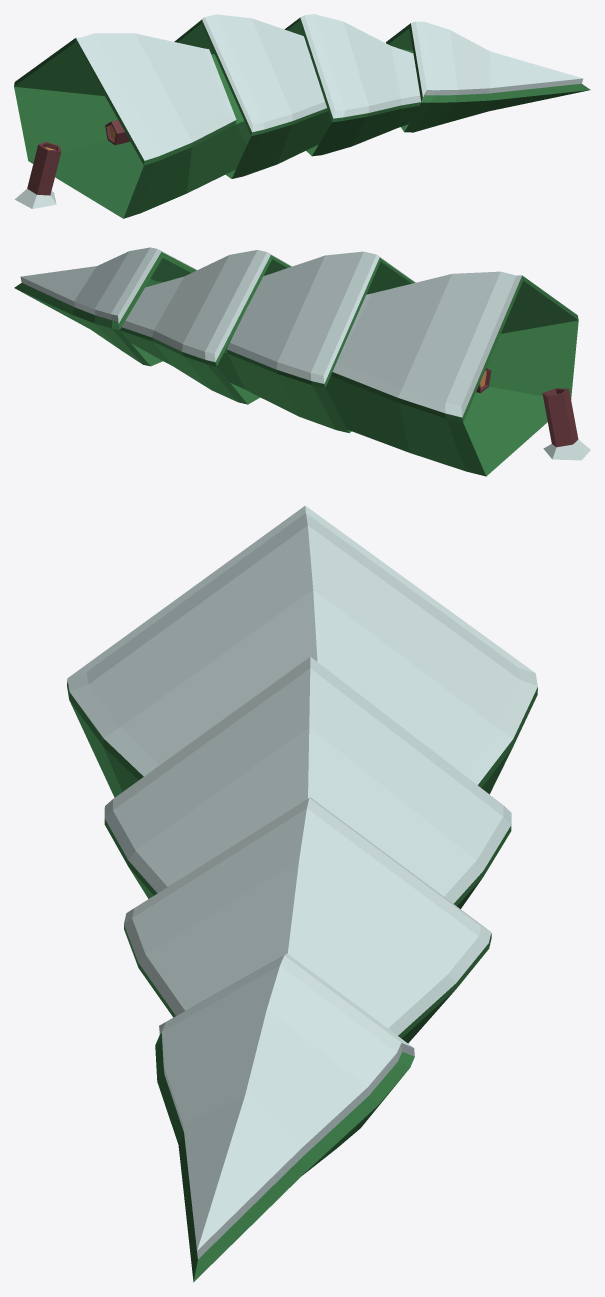
File: tree_3_fallen_snow.fbx
3 views of the same model, one above another, from view 1: azimuth 30°, elevation 25°; view 2: azimuth 150°, elevation 25°; view 3: azimuth 270°, elevation 25° (orthographic). The views are drawn at different scales.
Visible parts, largest first — view 1: Cone, Cone.001, Cone.002, Cone.003, Cylinder.001, Cylinder; view 2: Cone, Cone.001, Cone.002, Cone.003, Cylinder.001; view 3: Cone, Cone.001, Cone.002, Cone.003.
Boxes of the visible parts, x1,y1,x2,y2 form: Cone: [14, 33, 250, 218]; Cone.001: [174, 14, 331, 178]; Cone.002: [284, 14, 421, 156]; Cone.003: [386, 21, 590, 132]; Cylinder.001: [15, 141, 61, 208]; Cylinder: [105, 120, 130, 145]; Cone: [325, 271, 578, 476]; Cone.001: [217, 251, 415, 433]; Cone.002: [120, 250, 291, 404]; Cone.003: [14, 247, 197, 366]; Cylinder.001: [542, 388, 590, 460]; Cone: [67, 505, 537, 797]; Cone.001: [104, 657, 511, 908]; Cone.002: [124, 797, 491, 1043]; Cone.003: [155, 953, 414, 1282].
Size of the model in its own units: 190 by 50.73 by 71.12.
